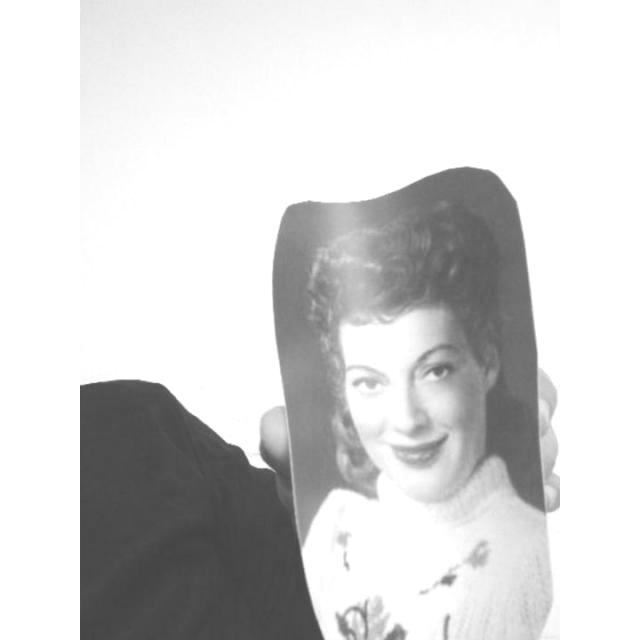fake: (242, 159, 557, 639)
